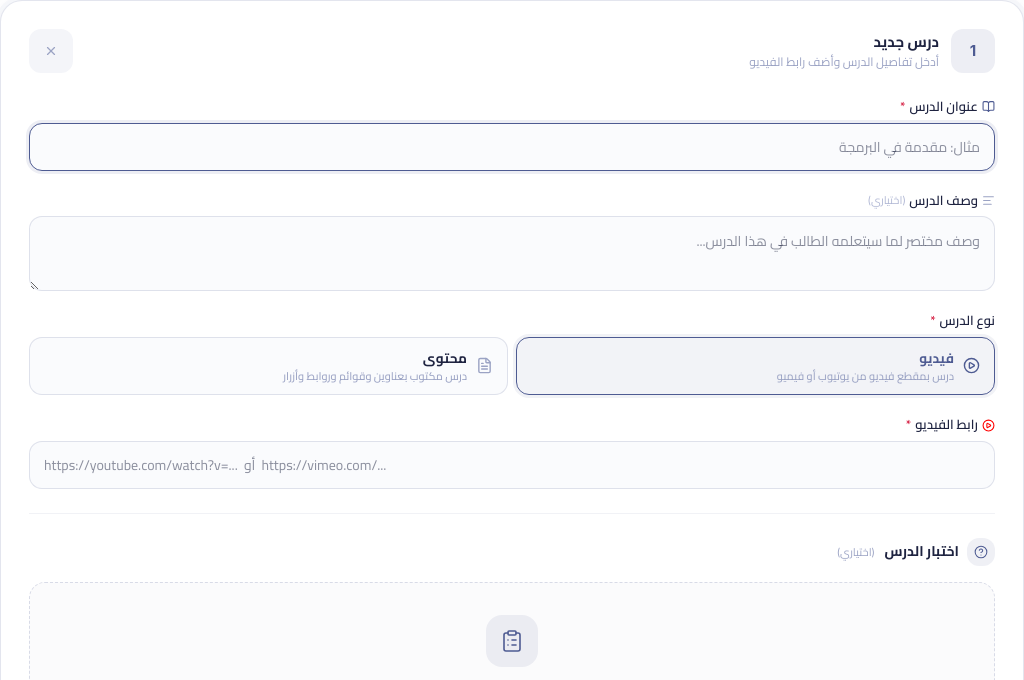
Test: LessonForm video input › says the platform is unsupported for a link Manara cannot play
The image size is (1024, 680).
Type "https://dailymotion.com/video/x8abcd" into the field with placeholder "https://youtube.com/watch?v=... أو https://vimeo.com/..." at (512, 465), box x1=29 y1=441 x2=995 y2=489
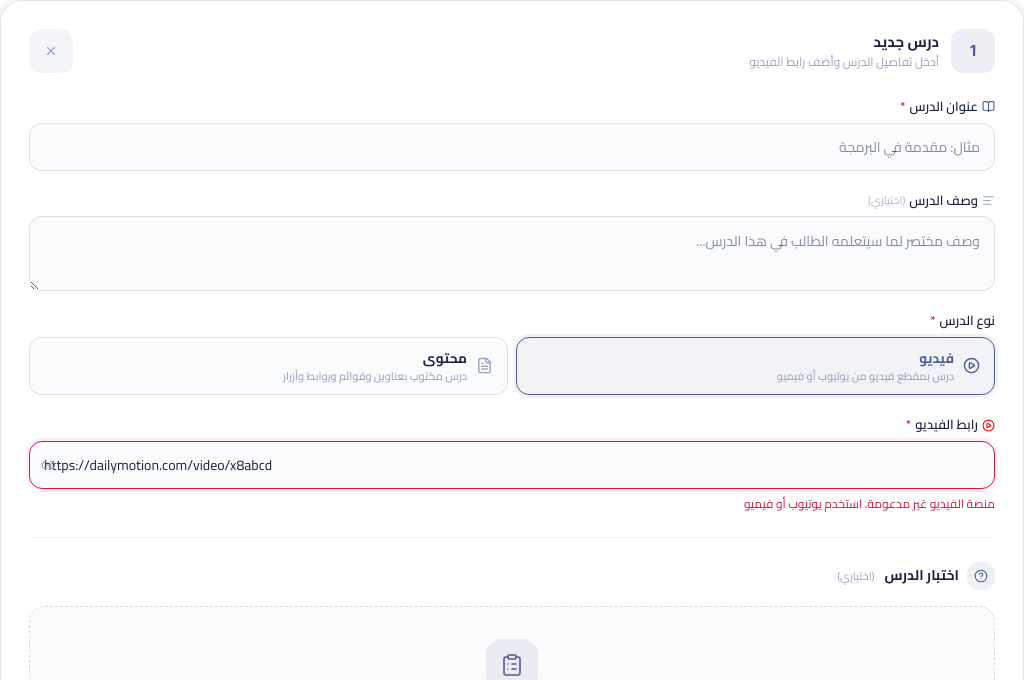
Now the text "منصة الفيديو غير مدعومة. استخدم يوتيوب أو فيميو" is shown, box x1=744 y1=492 x2=995 y2=515
